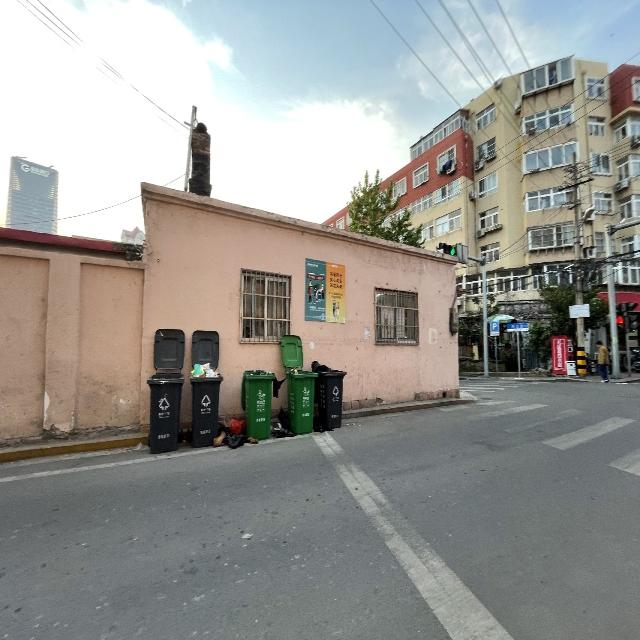garbage: (212, 418, 258, 449)
garbage_bin: (146, 371, 183, 455), (240, 368, 275, 439), (286, 369, 316, 433)
overflow: (190, 361, 222, 447), (312, 360, 346, 429)
